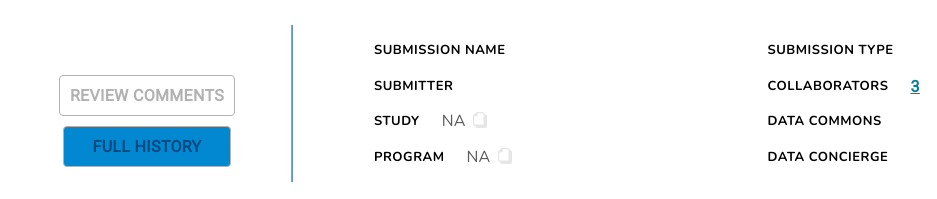
Test: Basic Functionality › renders the Collaborators property with correct number and tooltip
Note: Hover to trigger the tooltip
Hover over the button with test id "collaborators-button": {"x": 915, "y": 86} [910,77,920,96]
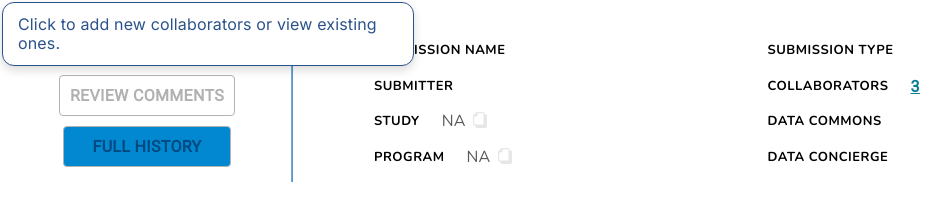
Now the text "Click to add new collaborators or view existing ones." is shown, box [2,2,414,66]
Now the text with test id "collaborators-button-tooltip" reads "Click to add new collaborators or view existing ones.", box [18,14,377,53]
